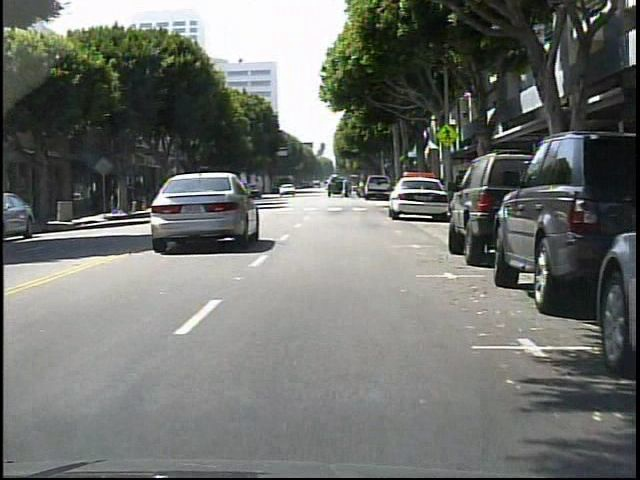person: (84, 179, 95, 212), (125, 185, 135, 213), (116, 184, 125, 211), (345, 176, 346, 197)
